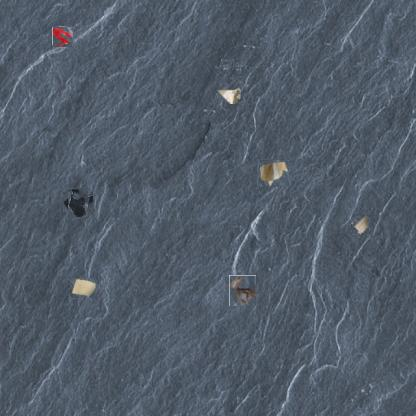dirty: (258, 159, 290, 187), (229, 275, 256, 306), (70, 278, 96, 298), (216, 86, 240, 104), (351, 214, 371, 234)
liquid: (66, 190, 91, 215), (53, 27, 73, 46)
